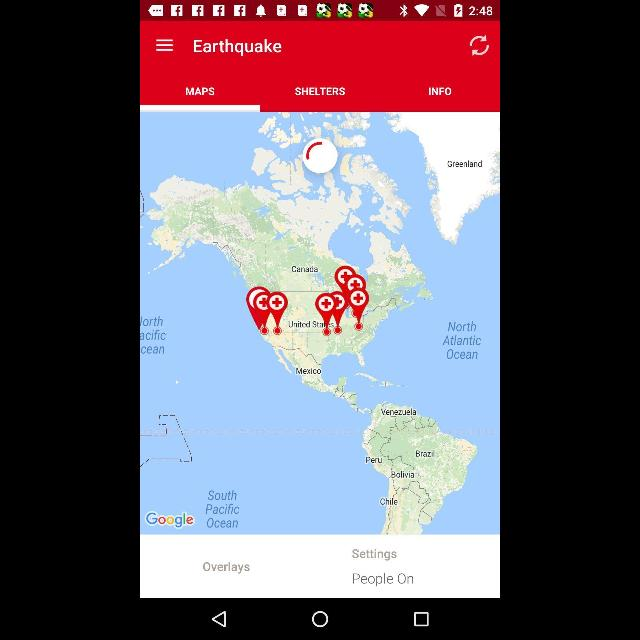icon: (469, 32, 491, 58), (211, 612, 227, 628), (312, 612, 328, 628), (413, 612, 429, 628), (156, 38, 174, 52)
map: (140, 112, 500, 534)
multitab: (140, 71, 500, 113)
panel: (142, 535, 500, 597), (140, 600, 500, 640)
text: (194, 40, 284, 54), (294, 85, 344, 98), (352, 574, 414, 584), (203, 562, 251, 574), (351, 550, 399, 560), (185, 86, 215, 96), (426, 86, 452, 96)
toolbar: (141, 21, 499, 70)
uppertaskbar: (140, 0, 500, 20)
